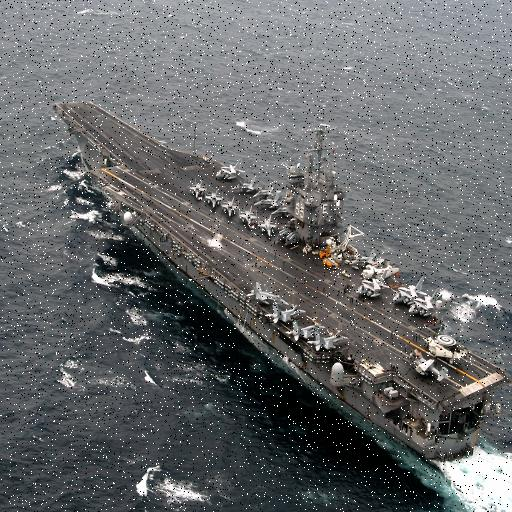Portanaves: (44, 93, 512, 472)
